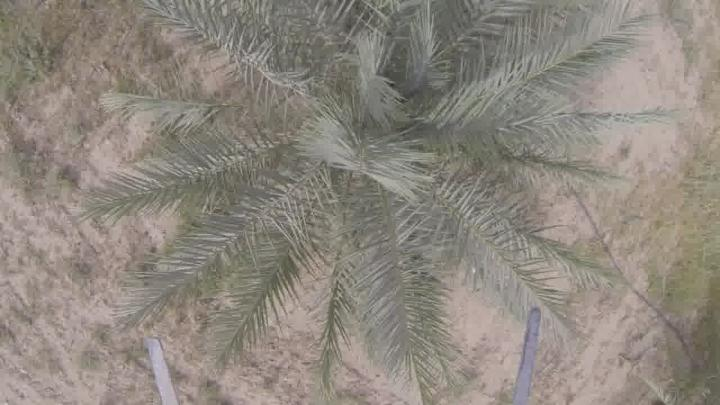Date-Palm-Crown: (215, 0, 497, 280)
